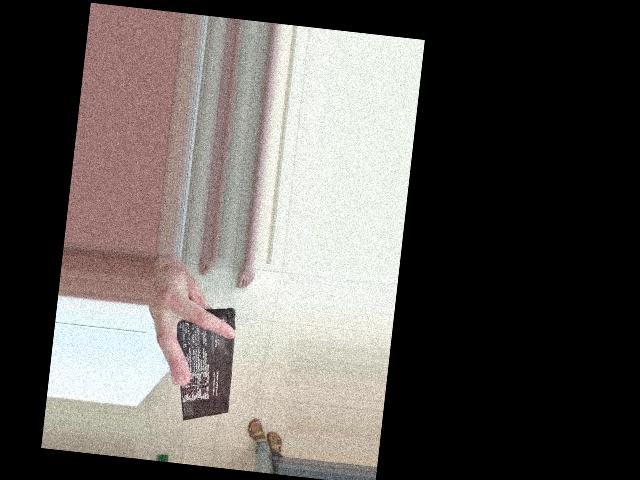chocolate: (168, 326, 309, 413)
